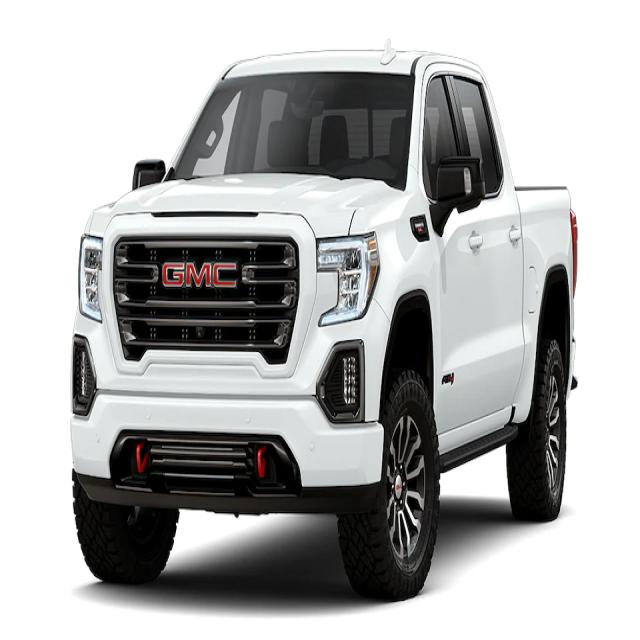CMT: (65, 34, 572, 604)
